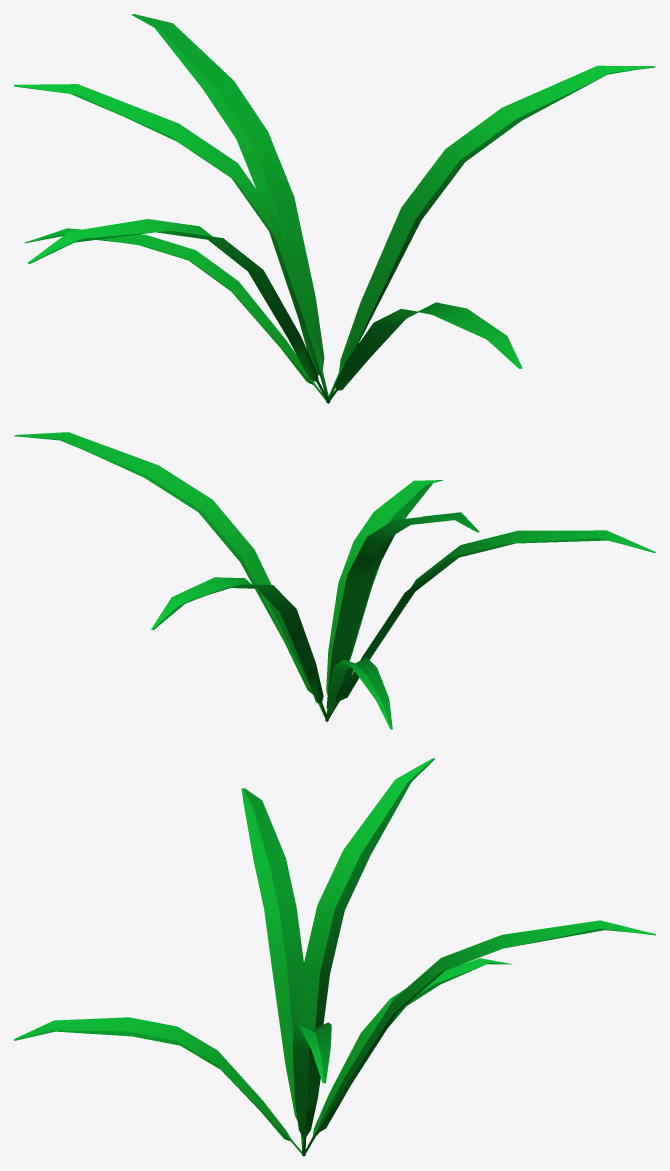
Rendered from Foliage_8.fbx.
3 renders of one model, top to bottom at view 1: azimuth 30°, elevation 25°; view 2: azimuth 150°, elevation 25°; view 3: azimuth 270°, elevation 25°, orthographic. The views are drawn at different scales.
Visible parts, largest first — view 1: Foliage_8; view 2: Foliage_8; view 3: Foliage_8.
Part boxes in pixels (x1,y1,x2,y2): Foliage_8: (14,14,655,403); Foliage_8: (14,432,655,729); Foliage_8: (14,758,655,1156).
Bounding box in the file's own units: 1.96 × 0.9055 × 1.8.
